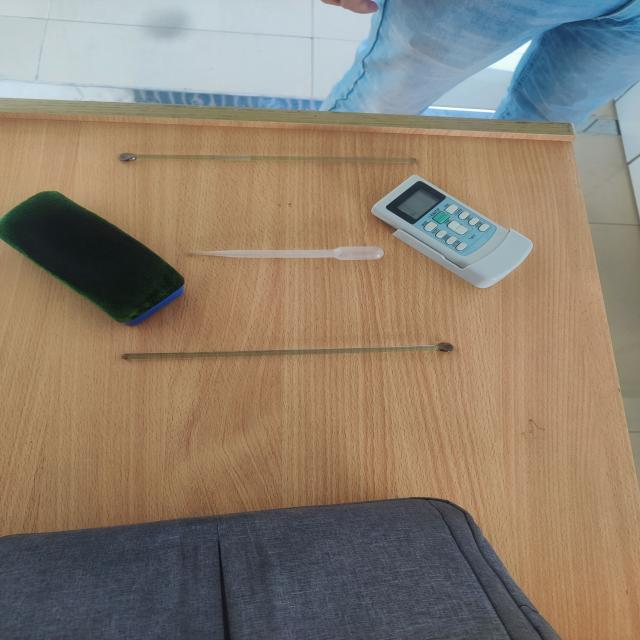Glass_Rod: (62, 111, 463, 206), (81, 327, 497, 386)
Pipette: (154, 220, 410, 282)
